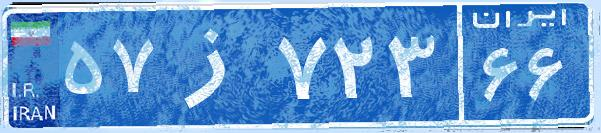2: (330, 28, 385, 110)
3: (385, 28, 445, 110)
5: (57, 26, 110, 107)
6: (475, 38, 525, 113), (525, 38, 570, 115)
7: (273, 28, 330, 110), (110, 28, 158, 105)
ز: (158, 15, 273, 115)
